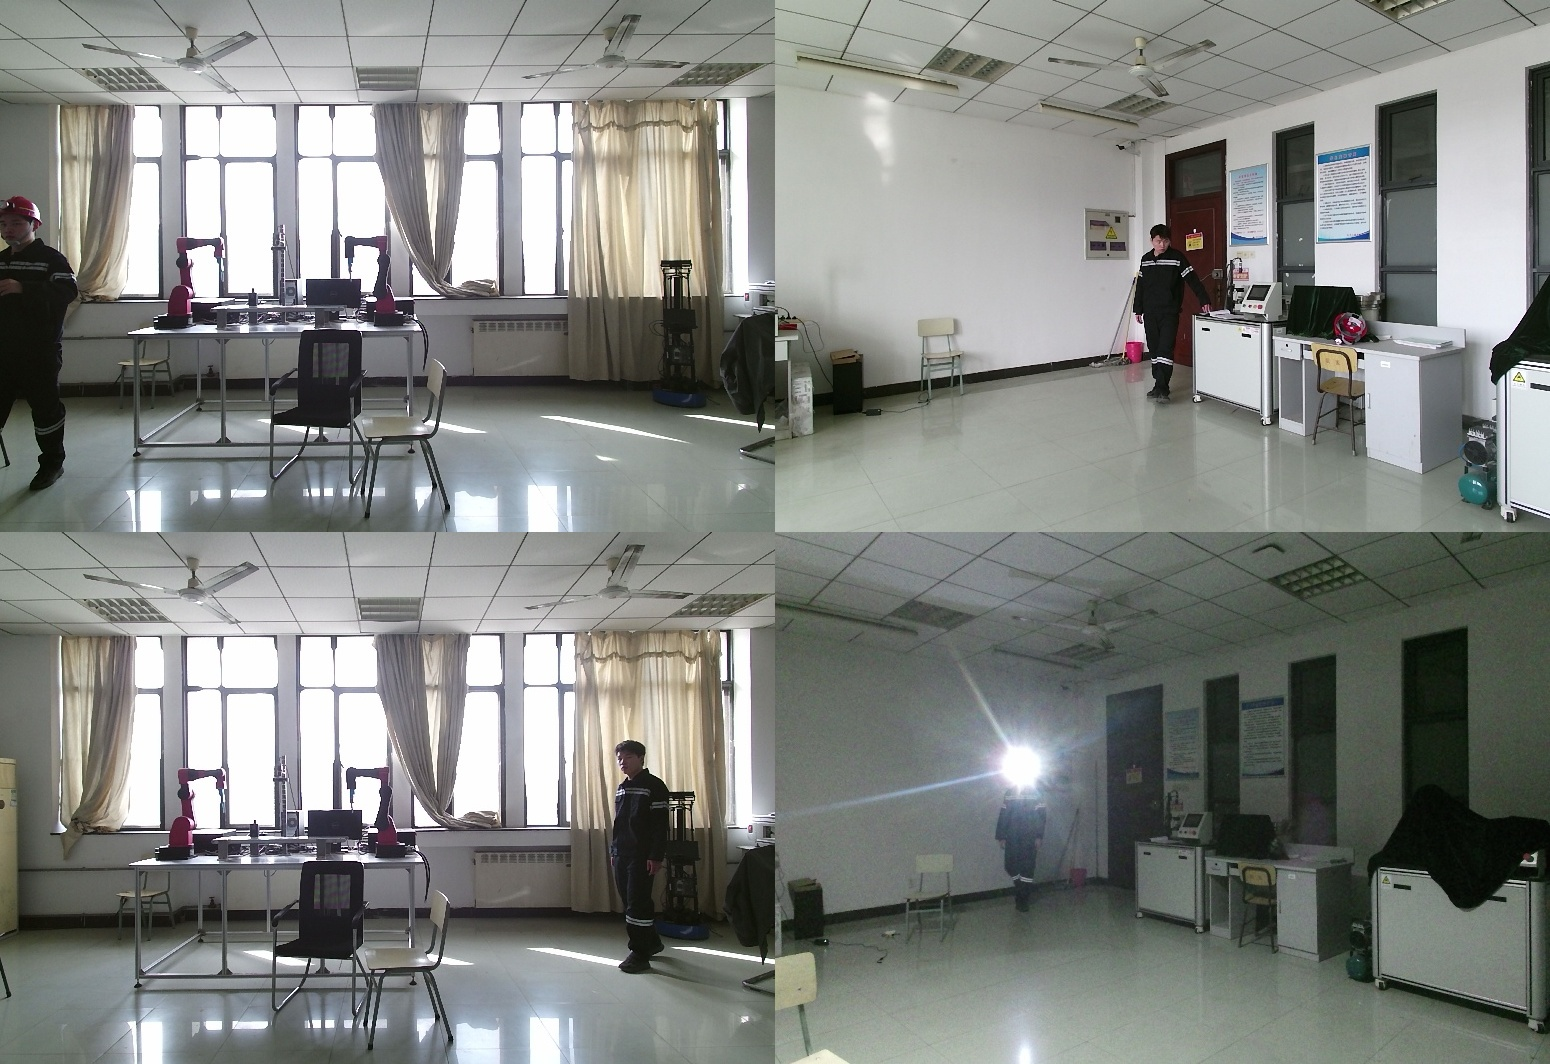person: (1, 197, 88, 490), (616, 742, 683, 977), (1137, 226, 1213, 408), (995, 762, 1050, 915)
